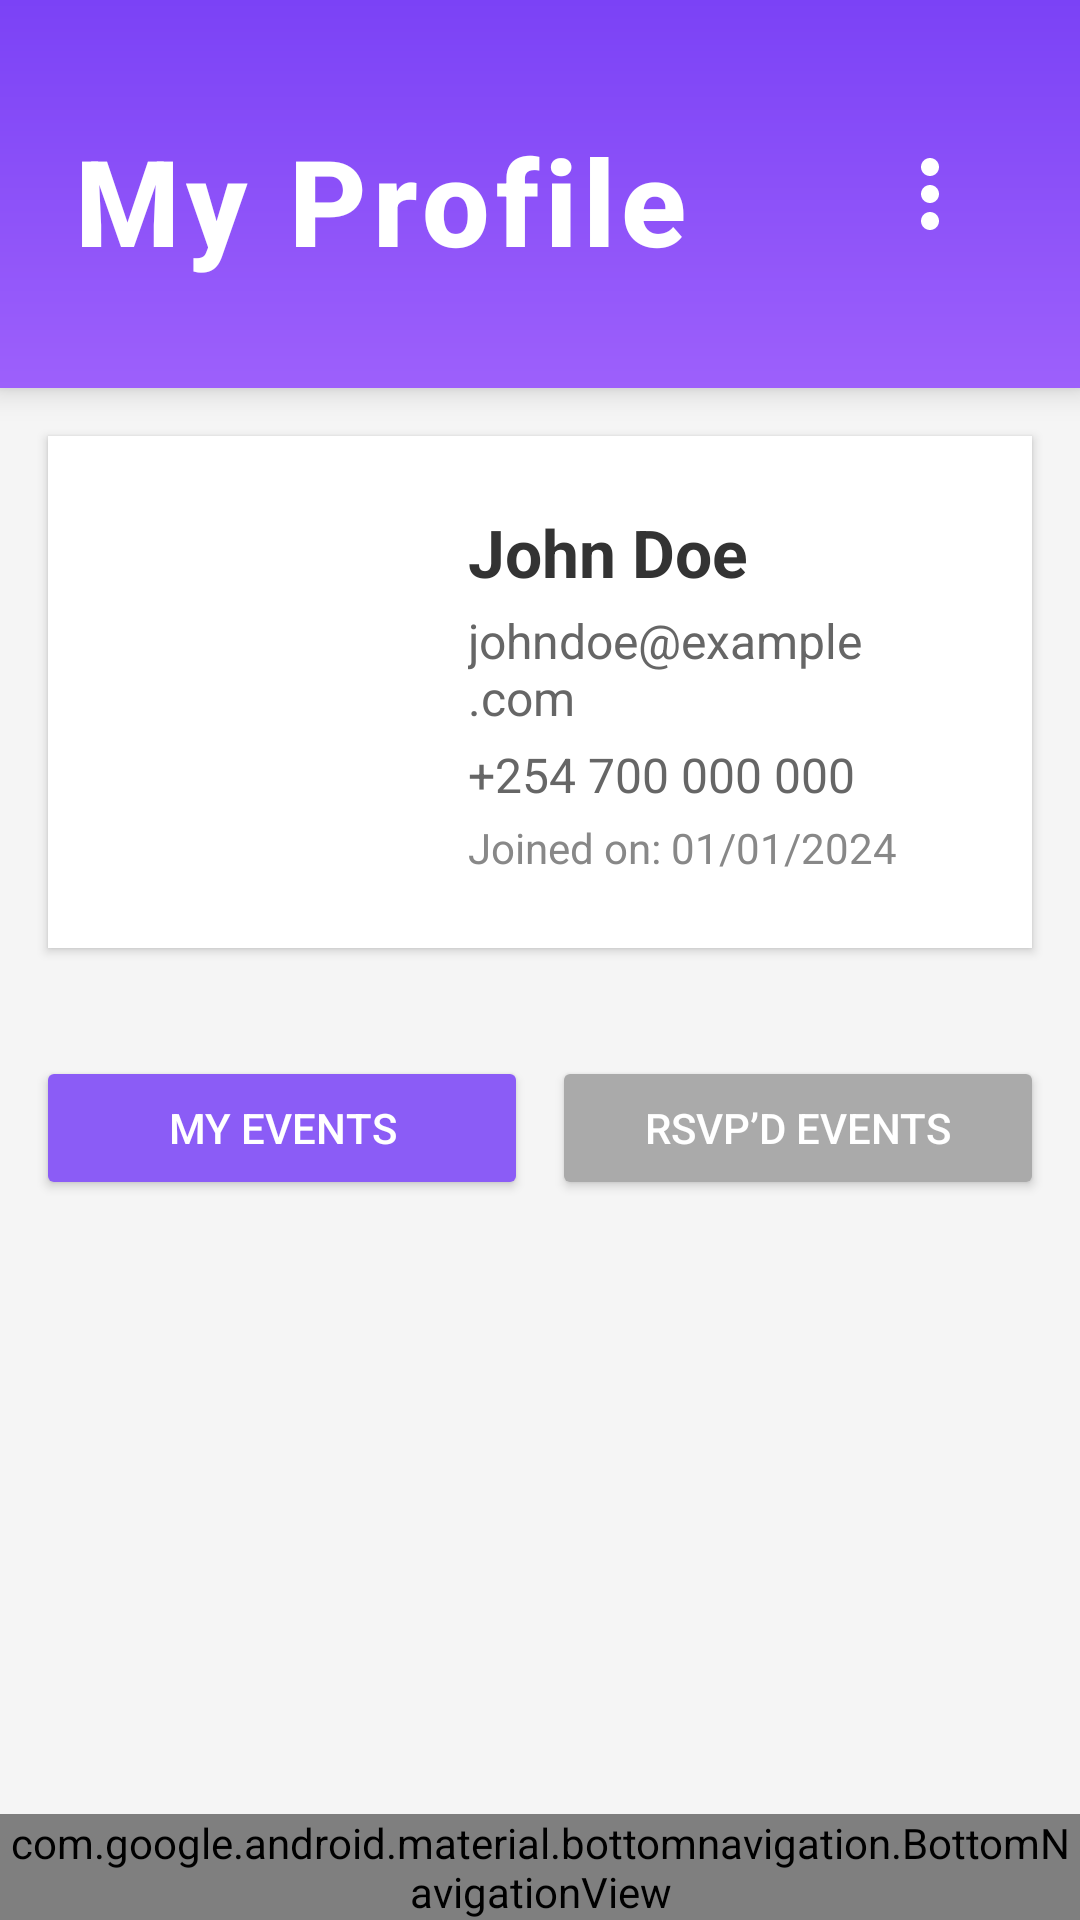

Point at icon controls on the screen. Image size 1080px×1920px, points as [x,y].
Menu: [930,194]
